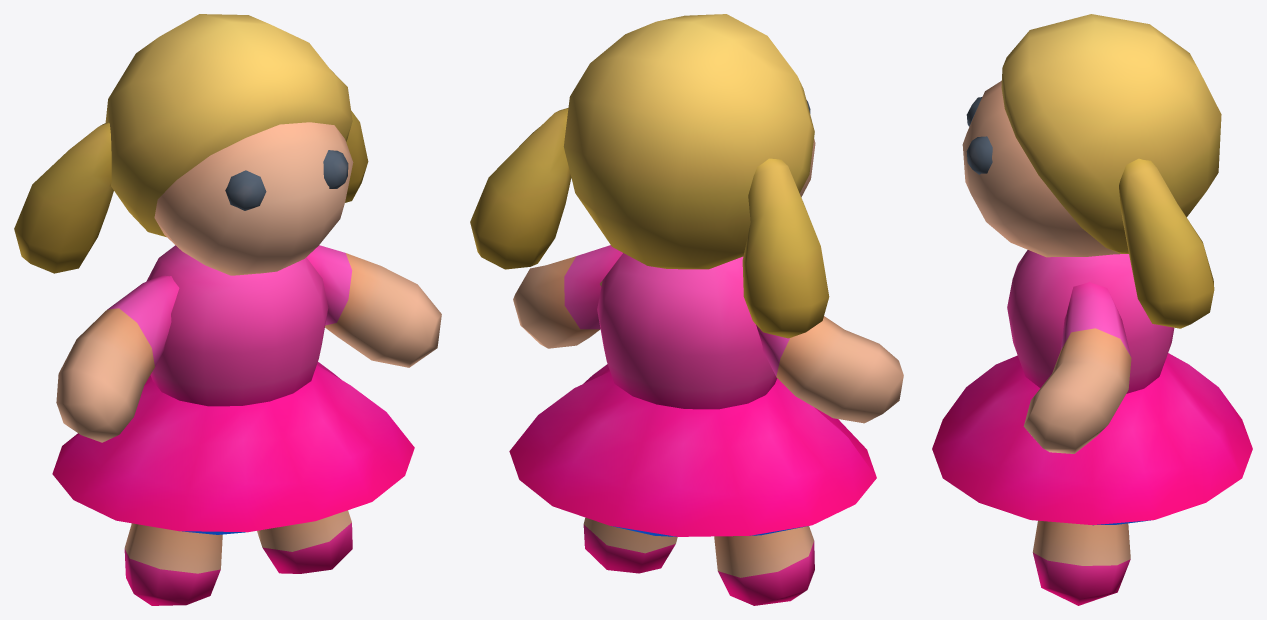
Rendered from dolll.fbx.
3 renders of one model, left to right at view 1: azimuth 30°, elevation 25°; view 2: azimuth 150°, elevation 25°; view 3: azimuth 270°, elevation 25°, orthographic. The views are drawn at different scales.
Visible parts, largest first — view 1: dolll; view 2: dolll; view 3: dolll.
Part boxes in pixels (left/top/right/bottom): dolll: left=14, top=14, right=441, bottom=605; dolll: left=470, top=14, right=903, bottom=605; dolll: left=932, top=14, right=1252, bottom=605.
Size of the model in its own units: 11.16 by 15.88 by 8.52.
